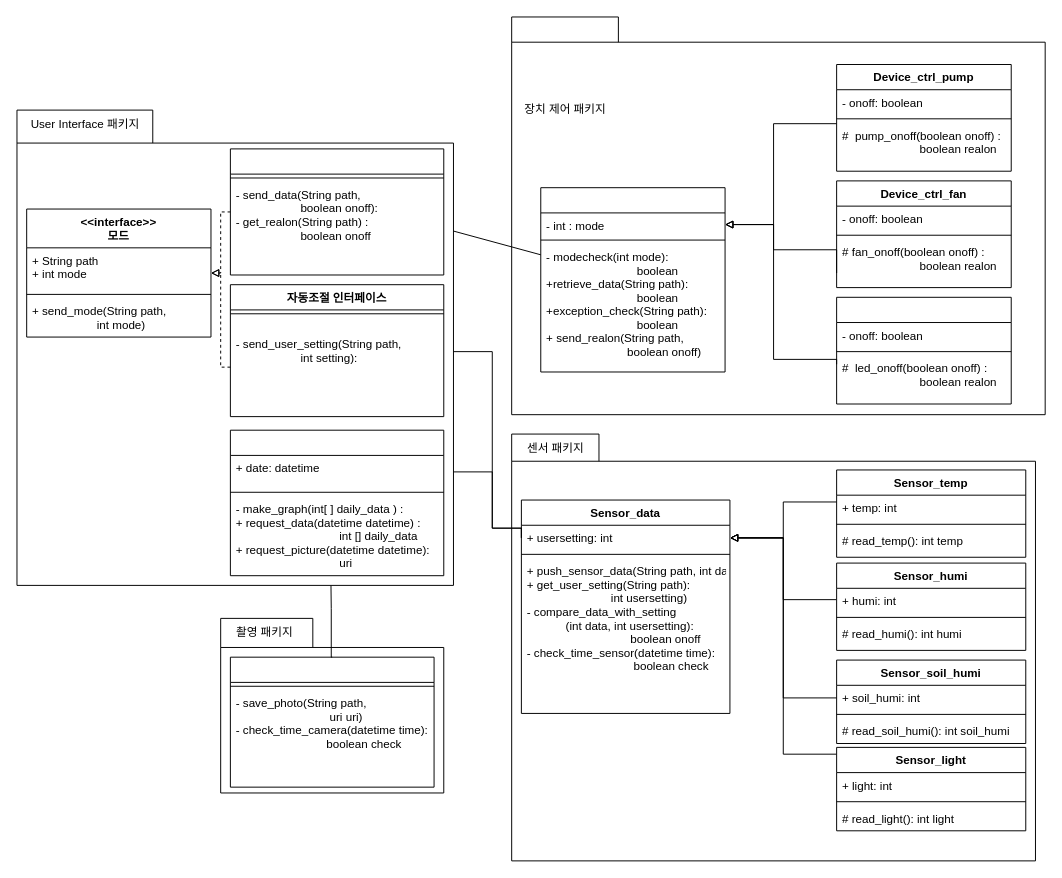
This 1062x878 diagram has some shape labels left out. The box of each missing label's shape, as (x1, y1, x2, y2) in pixels:
Device_ctrl: (540, 187, 725, 372)
Device_ctrl_led: (836, 296, 1011, 404)
관찰일지 인터페이스: (229, 429, 444, 576)
수동조절 인터페이스: (229, 148, 444, 275)
카메라 사진 업로드: (229, 656, 434, 787)
